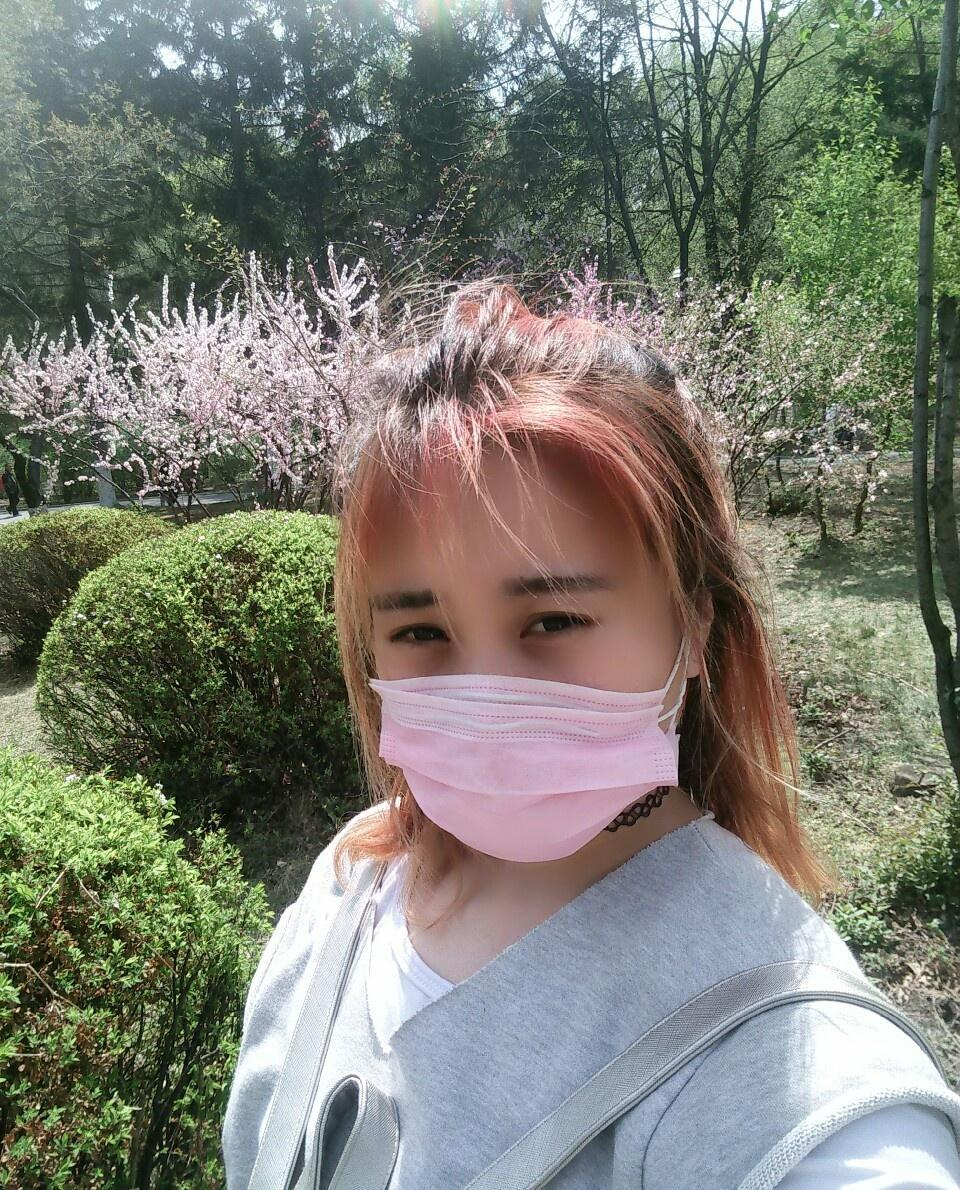OK: (365, 549, 670, 854)
